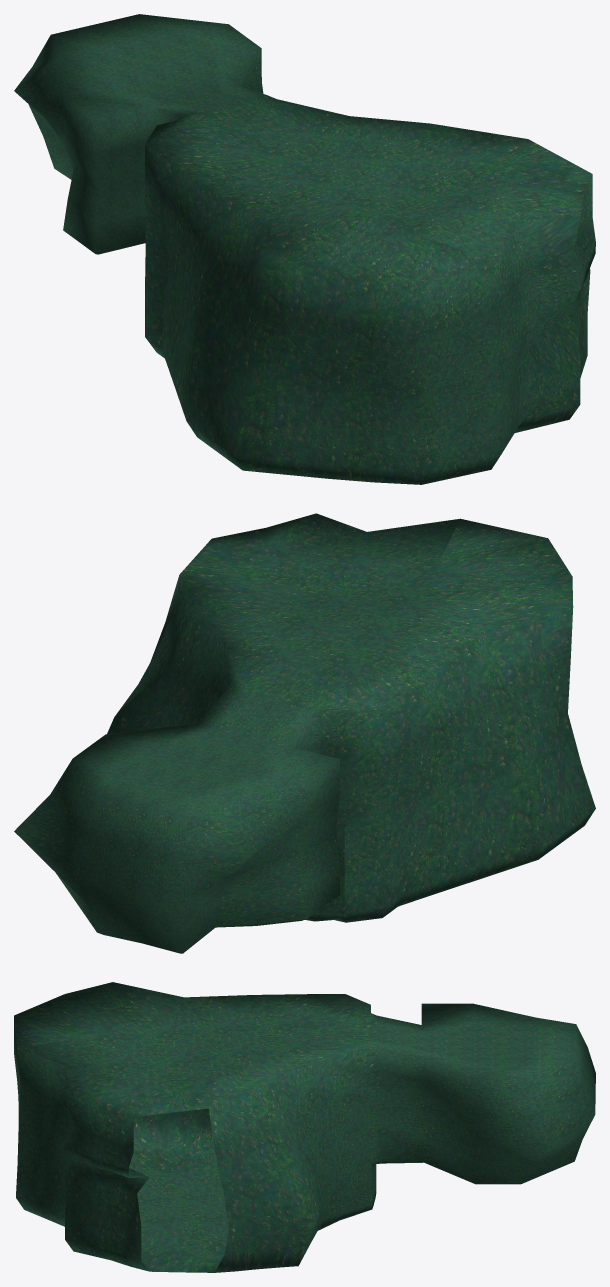
File: MIRKWOOD_MIRK_PLAYSURFACE74.fbx
The picture shows the model from 3 angles, top to bottom: view 1: azimuth 30°, elevation 25°; view 2: azimuth 150°, elevation 25°; view 3: azimuth 270°, elevation 25°; orthographic projection. The views are drawn at different scales.
Parts seen in each view (by area): view 1: MIRKWOOD_MIRK_PLAYSURFACE74; view 2: MIRKWOOD_MIRK_PLAYSURFACE74; view 3: MIRKWOOD_MIRK_PLAYSURFACE74.
Boxes of the visible parts, <box> form: MIRKWOOD_MIRK_PLAYSURFACE74: <box>14,14,595,484</box>; MIRKWOOD_MIRK_PLAYSURFACE74: <box>14,513,595,953</box>; MIRKWOOD_MIRK_PLAYSURFACE74: <box>14,982,595,1272</box>.
Bounding box in the file's own units: 202586 × 106109 × 342493.
1 material, 1 textured.
